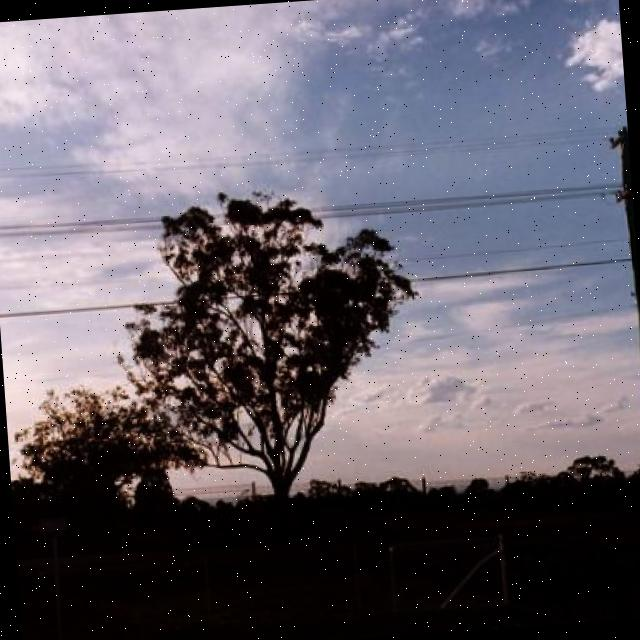Cs: (1, 1, 548, 177)
